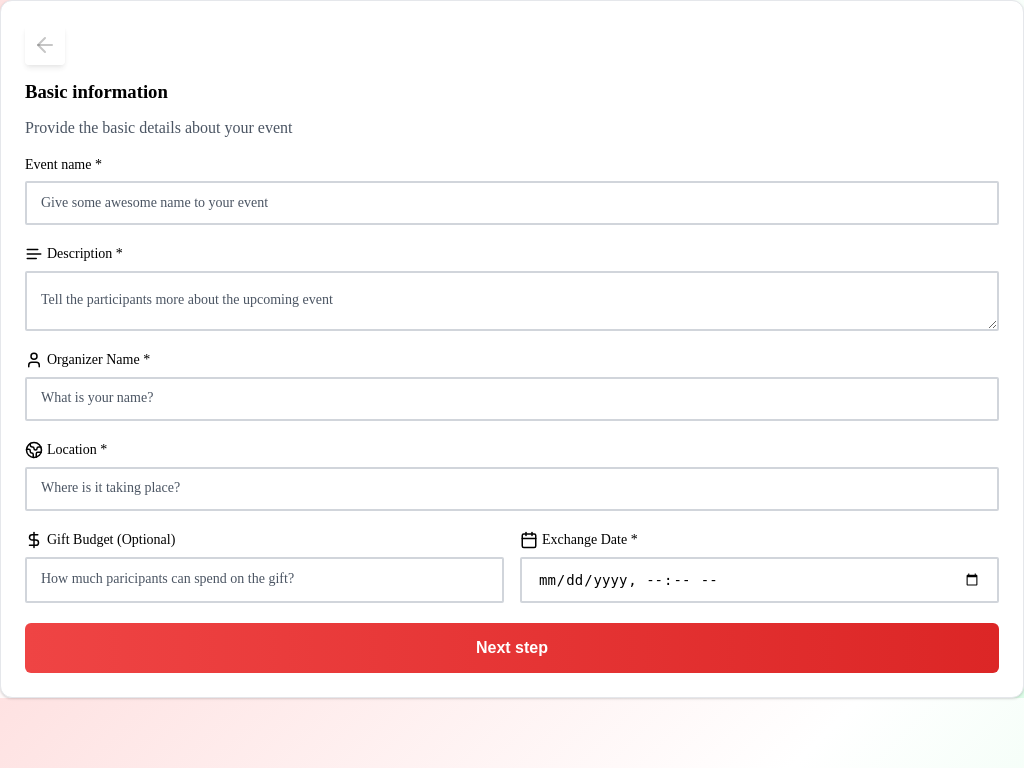
Test case: EventCreateForm › moves to the participants step after submitting basic information
In the field labelled "Event name *": (512, 203) [25,181,999,225], type "Office Secret Santa"
In the text box labelled "Description *": (512, 301) [25,271,999,331], type "Gift exchange after the Christmas lunch"
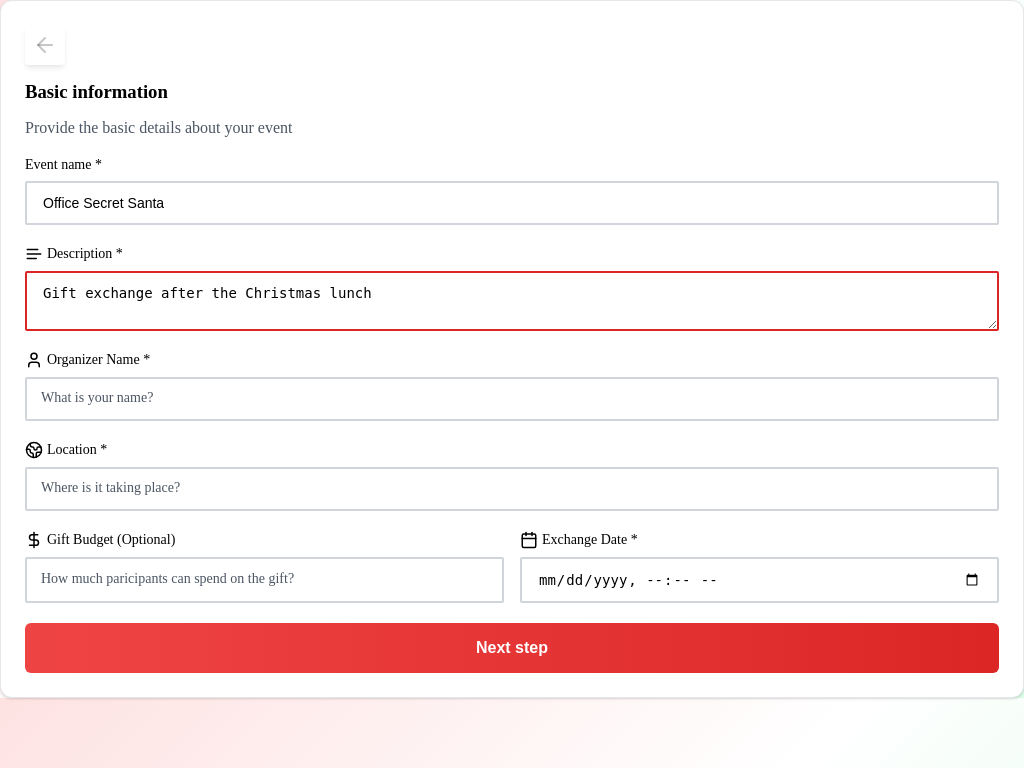
In the field labelled "Organizer Name *": (512, 399) [25,377,999,421], type "Anna"
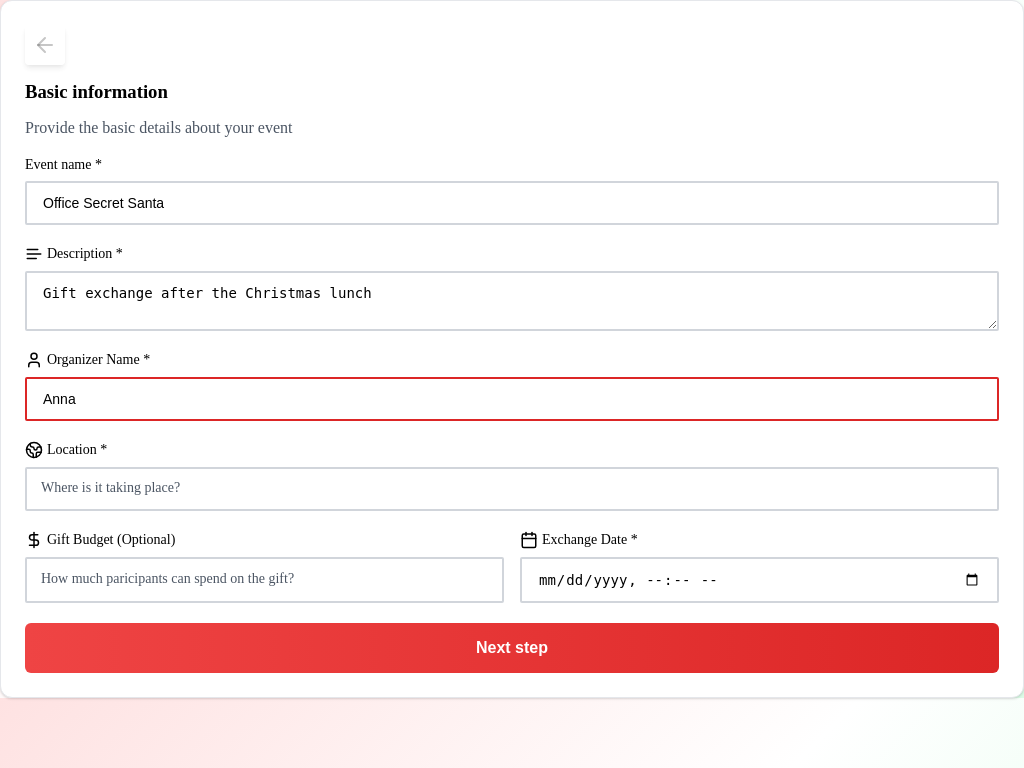
In the field labelled "Location *": (512, 489) [25,467,999,511], type "Office kitchen"
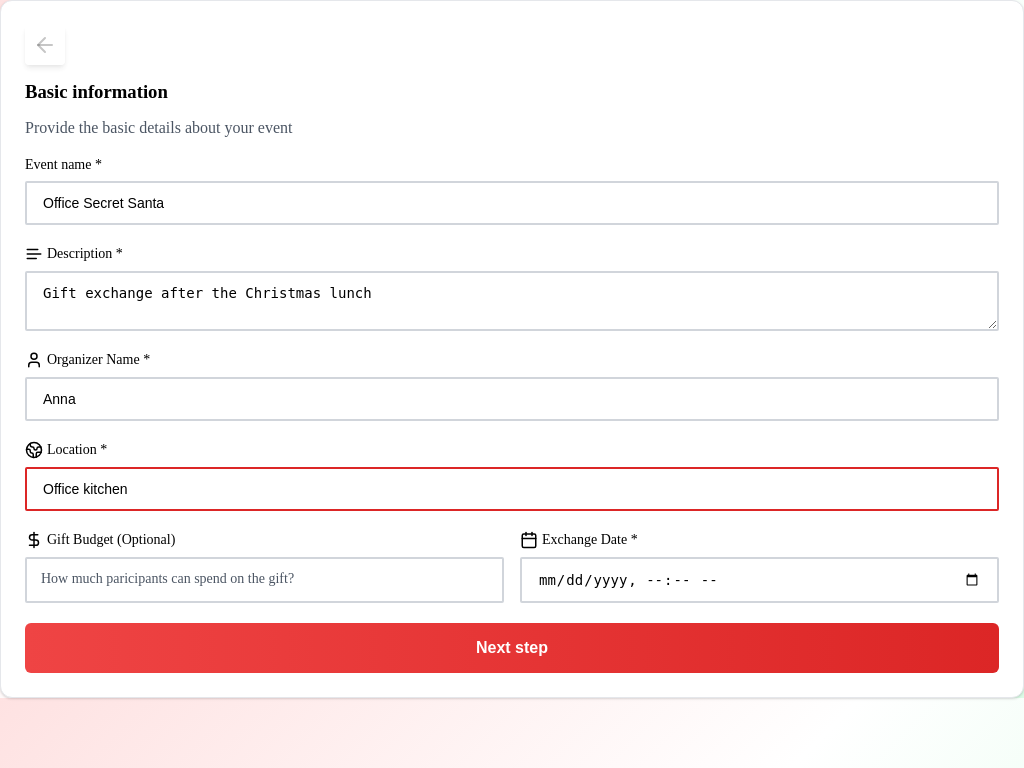
In the number field labelled "Gift Budget (Optional)": (264, 580) [25,557,504,603], type "50"
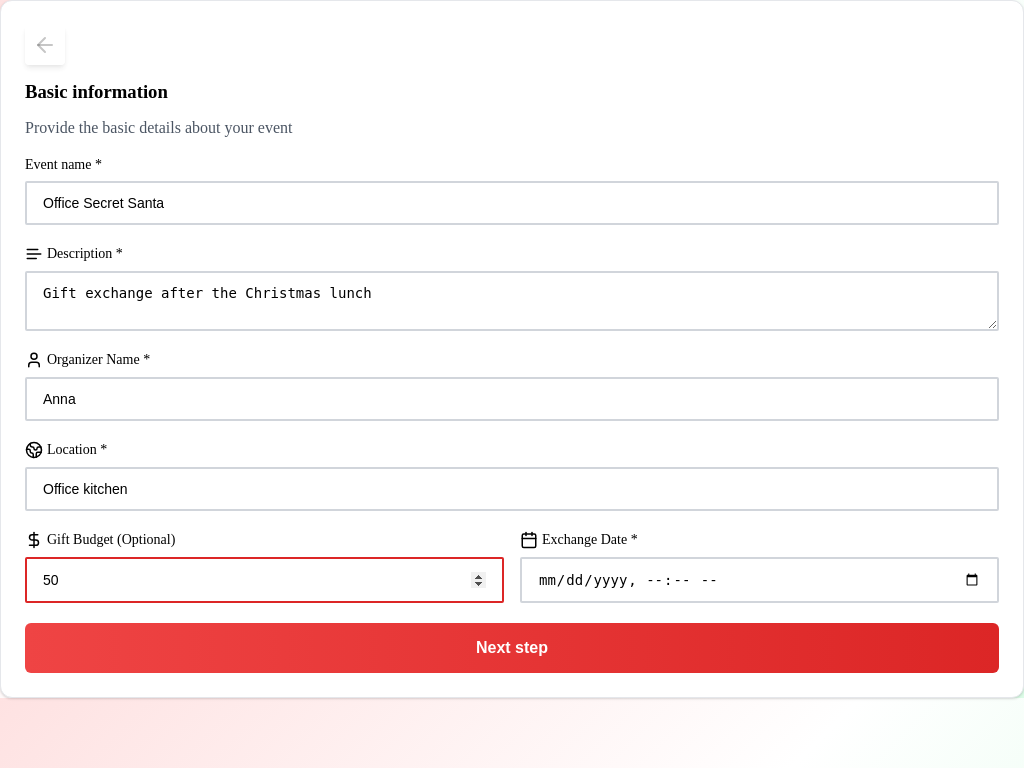
In the field labelled "Exchange Date *": (760, 580) [520,557,999,603], type "2026-12-20T18:00"
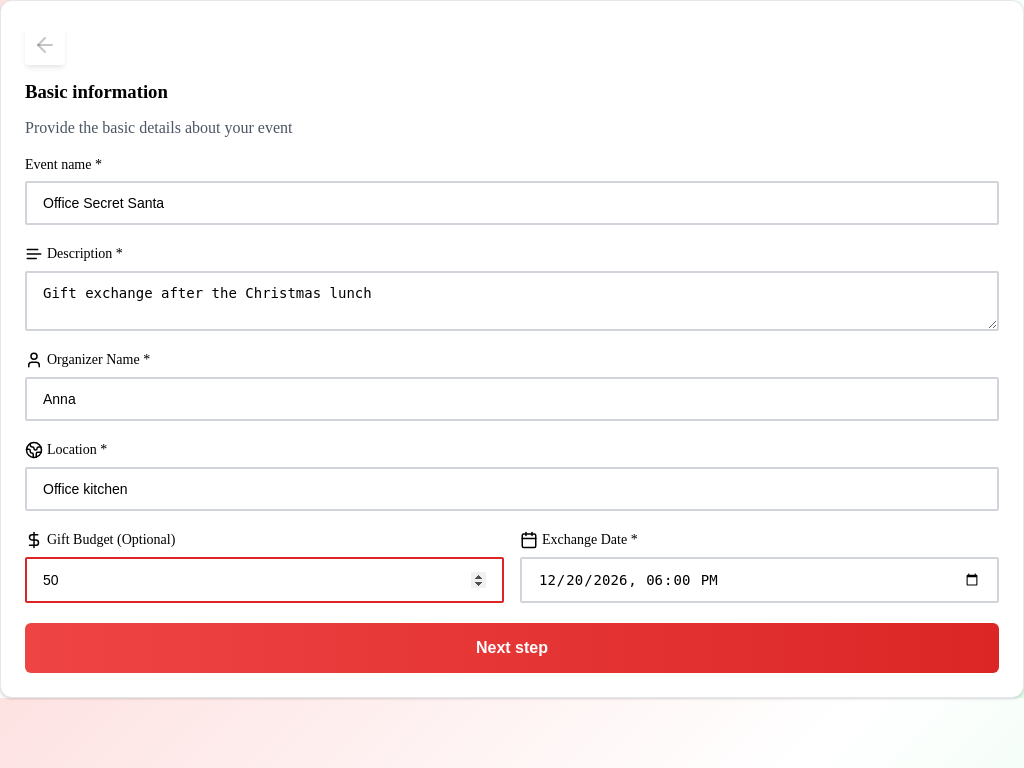
Click the button "Next step": (512, 648) [25,623,999,673]
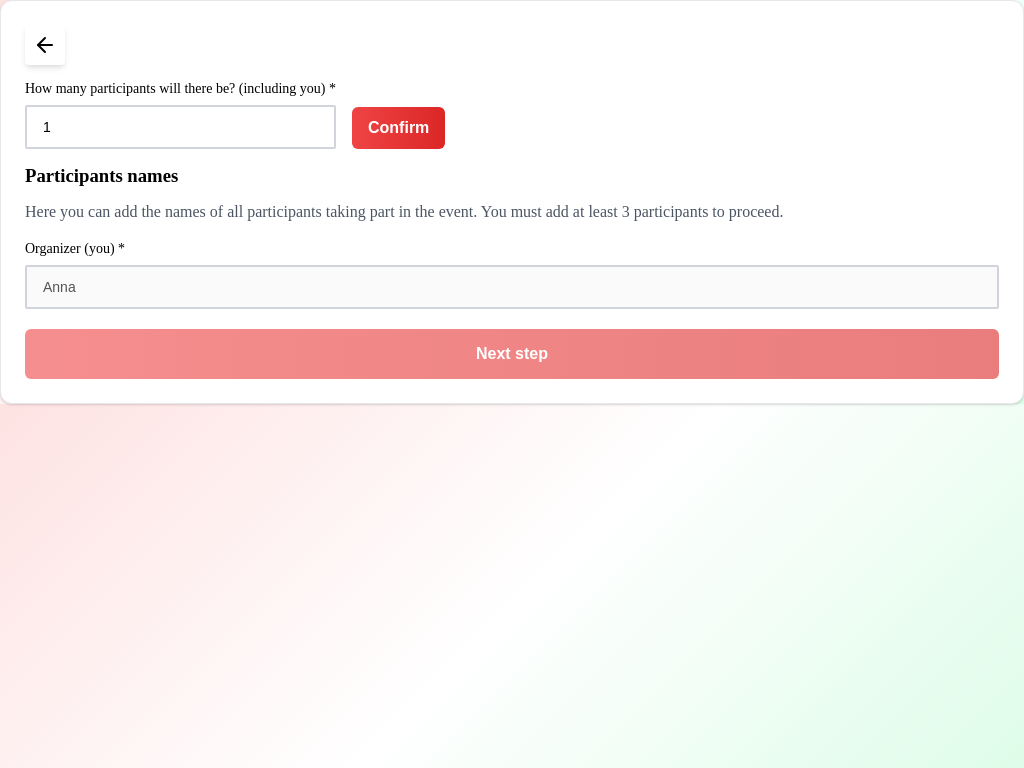
Result: the heading "Participants names" is shown at [25,165,178,186]
Result: the heading "Basic information" is gone
